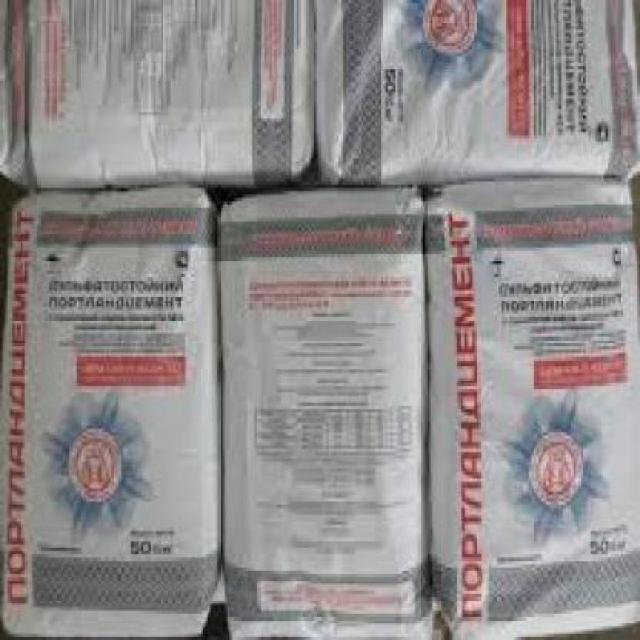gunny_bag: (5, 181, 217, 640), (220, 187, 434, 640), (440, 184, 640, 640), (0, 0, 311, 182), (315, 0, 640, 174)
